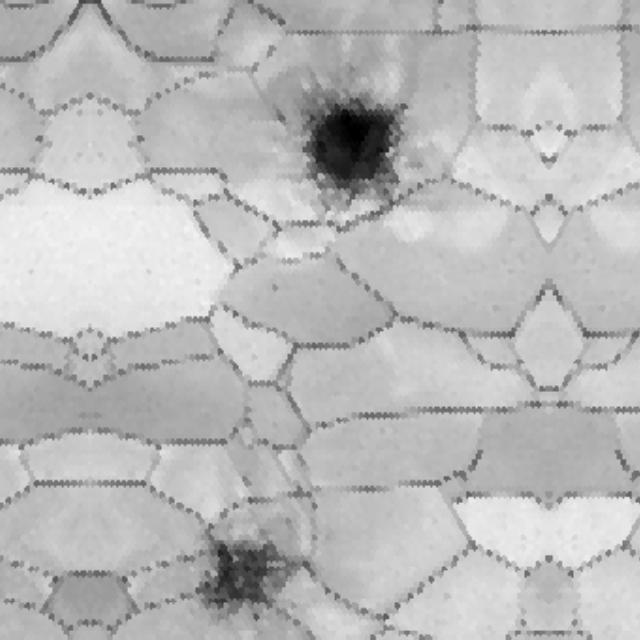good_void: (289, 74, 417, 223), (190, 523, 319, 634), (272, 104, 289, 131), (127, 131, 148, 149), (34, 131, 54, 149), (266, 281, 281, 293)
